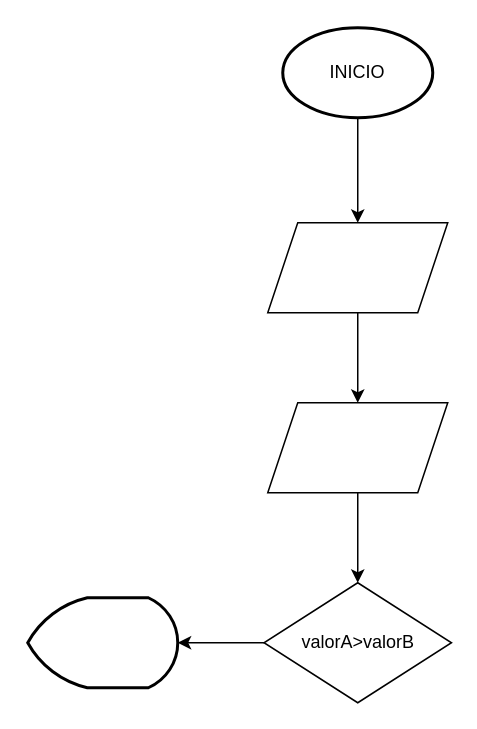
This 477x729 diagram has some shape labels left out. The centre of each missing label's shape, as x and y in pixels:
valorA=3: (x=357, y=267)
valorB=3: (x=357, y=447)
